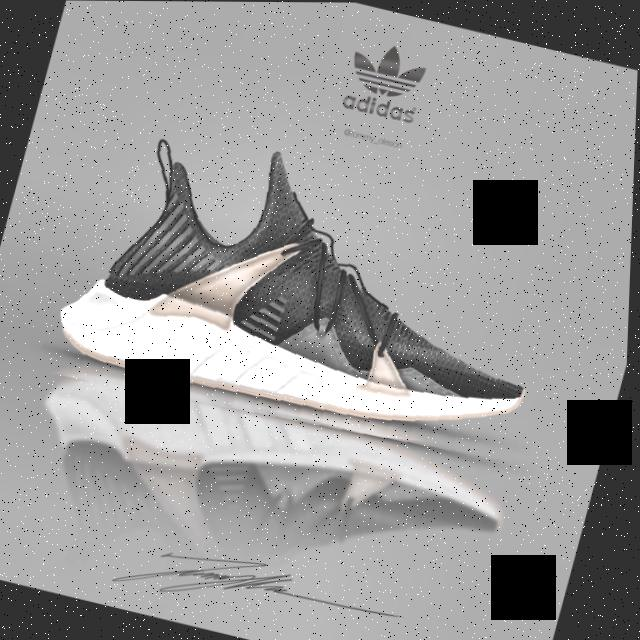shoe: (35, 109, 608, 490)
